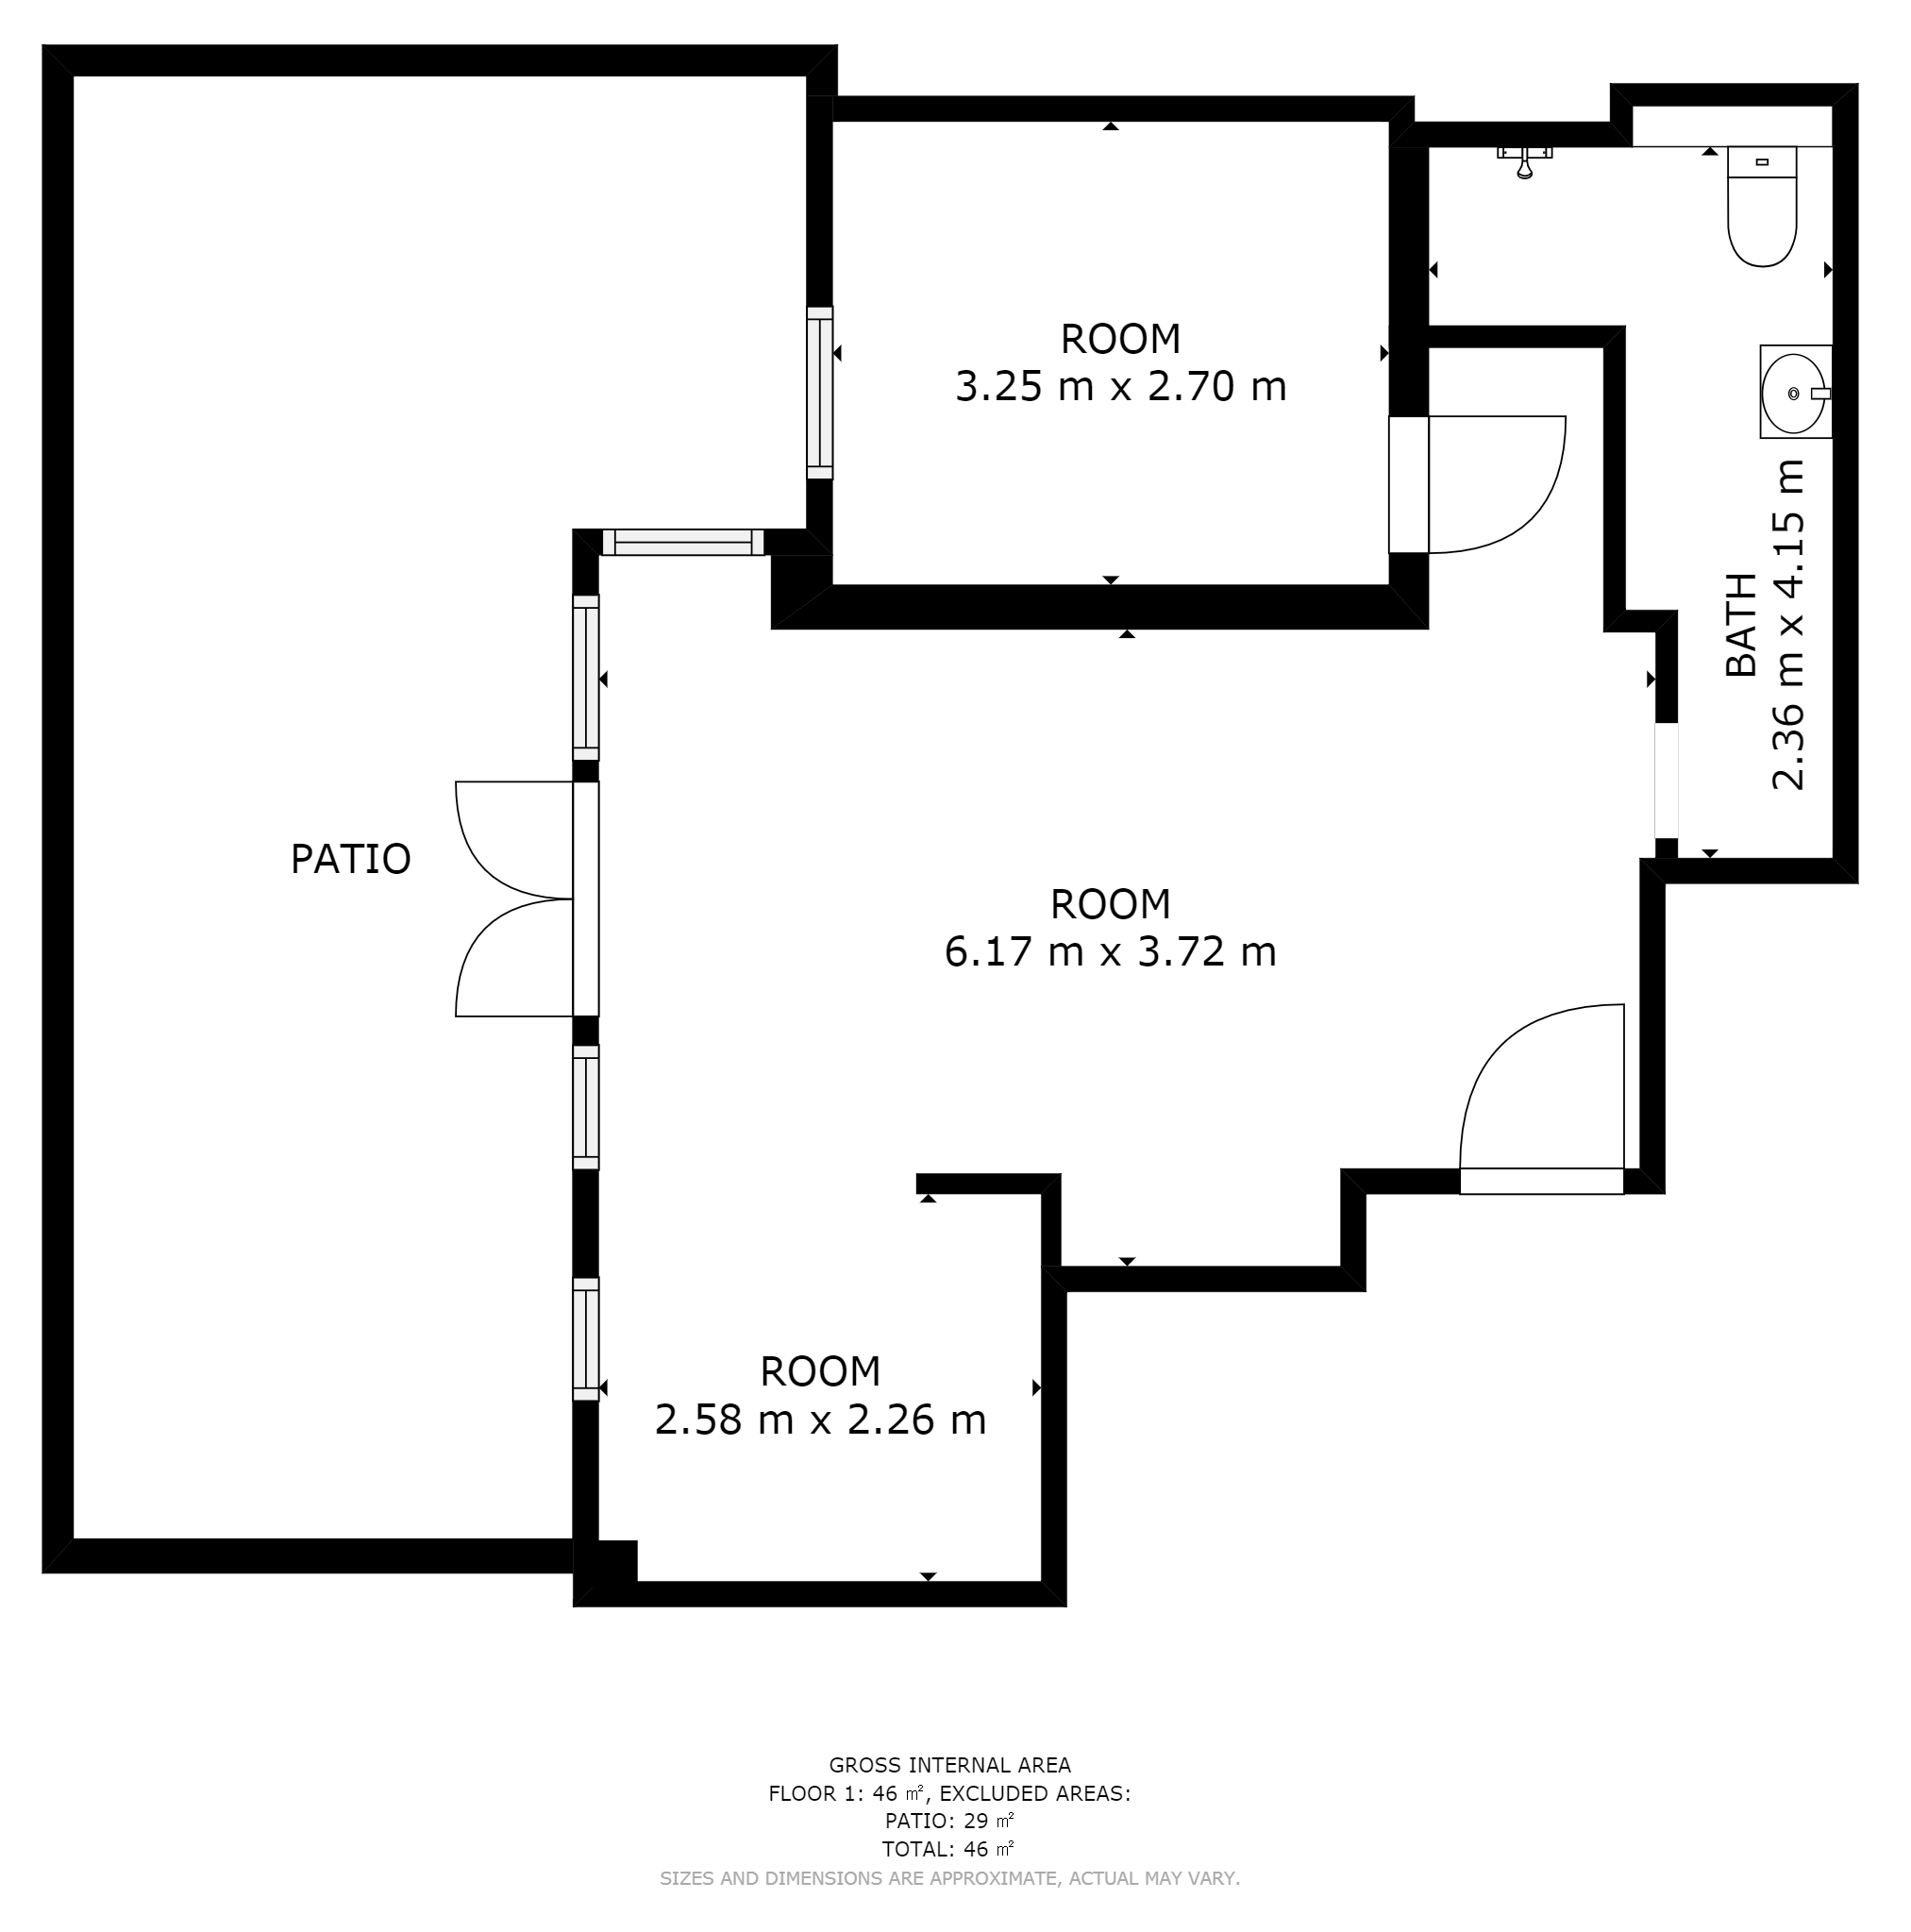door: (434, 766, 574, 1039), (1444, 997, 1638, 1167), (1435, 402, 1584, 563)
